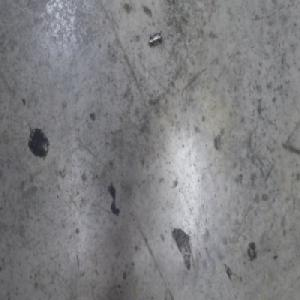Bolt: (148, 28, 163, 46)
